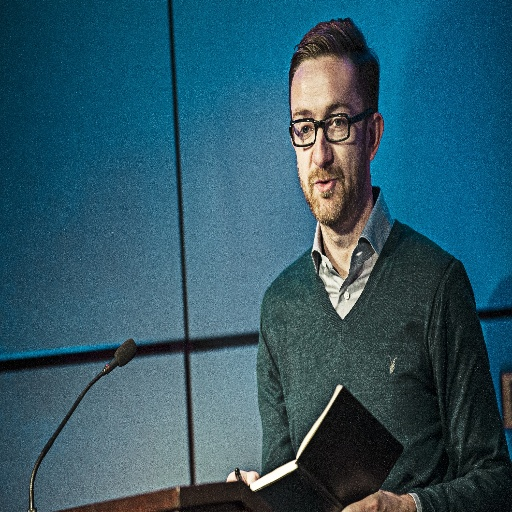hand: (339, 486, 415, 511), (226, 470, 259, 484)
